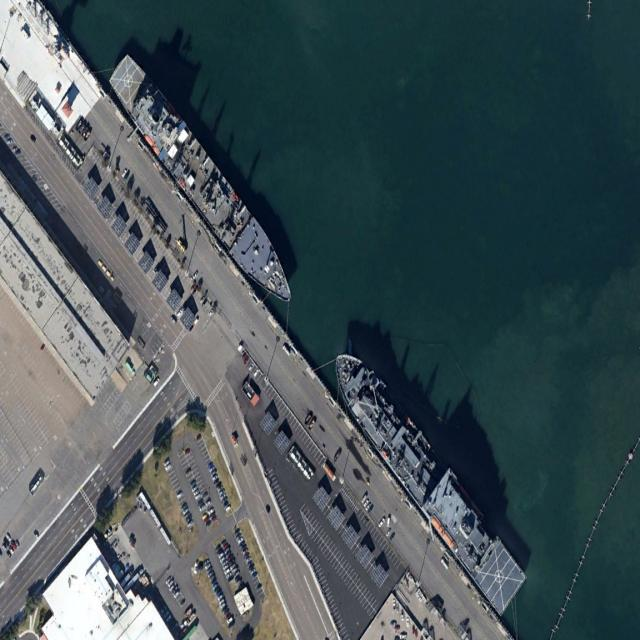Commander: (323, 335, 528, 617), (103, 48, 305, 317)
